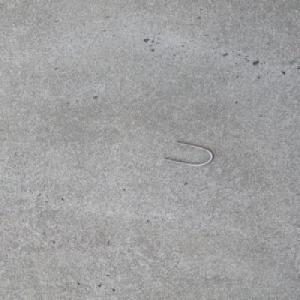ClampPart: (162, 140, 215, 166)
